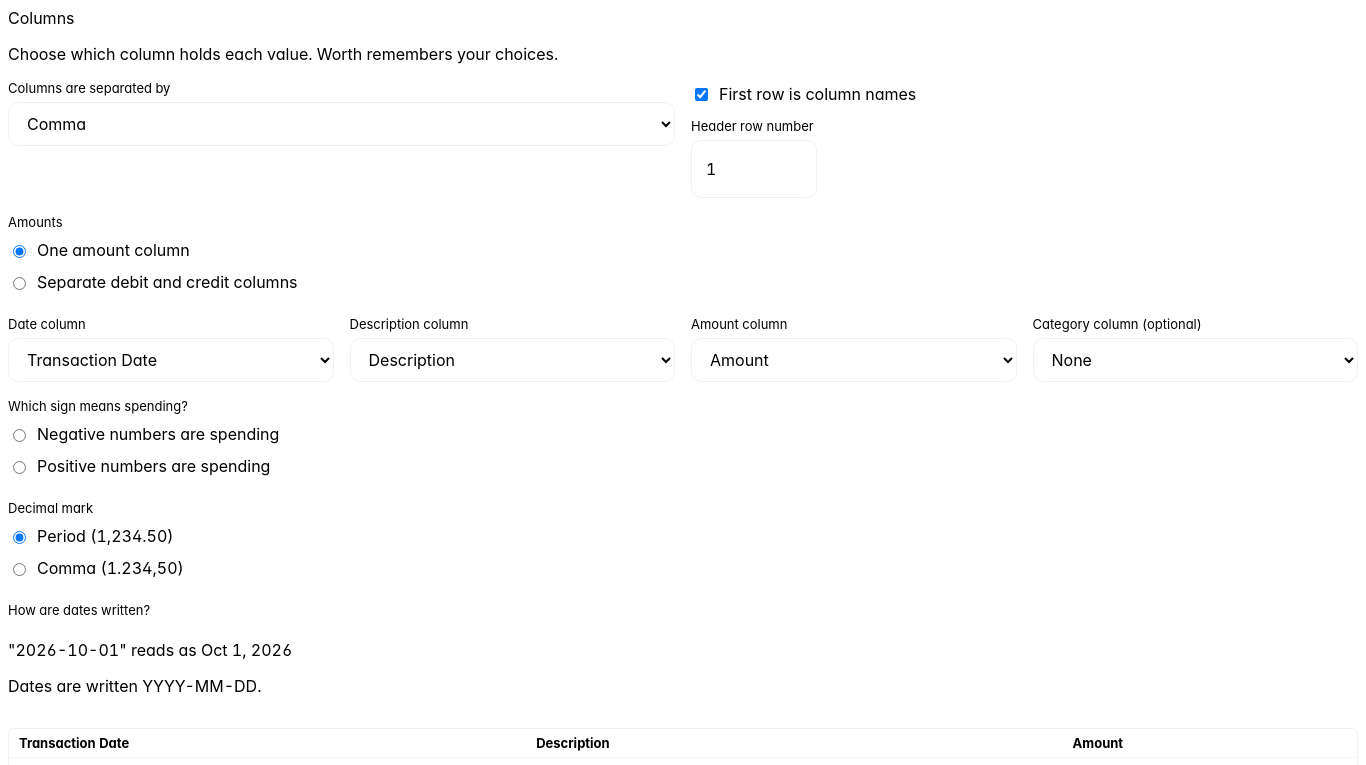
ColumnsStep › names the column and links the error to the date select when no dates can be read
Step 1. Select "Description" in the dropdown labelled "Date column" → (171, 360), box [8,338,334,382]
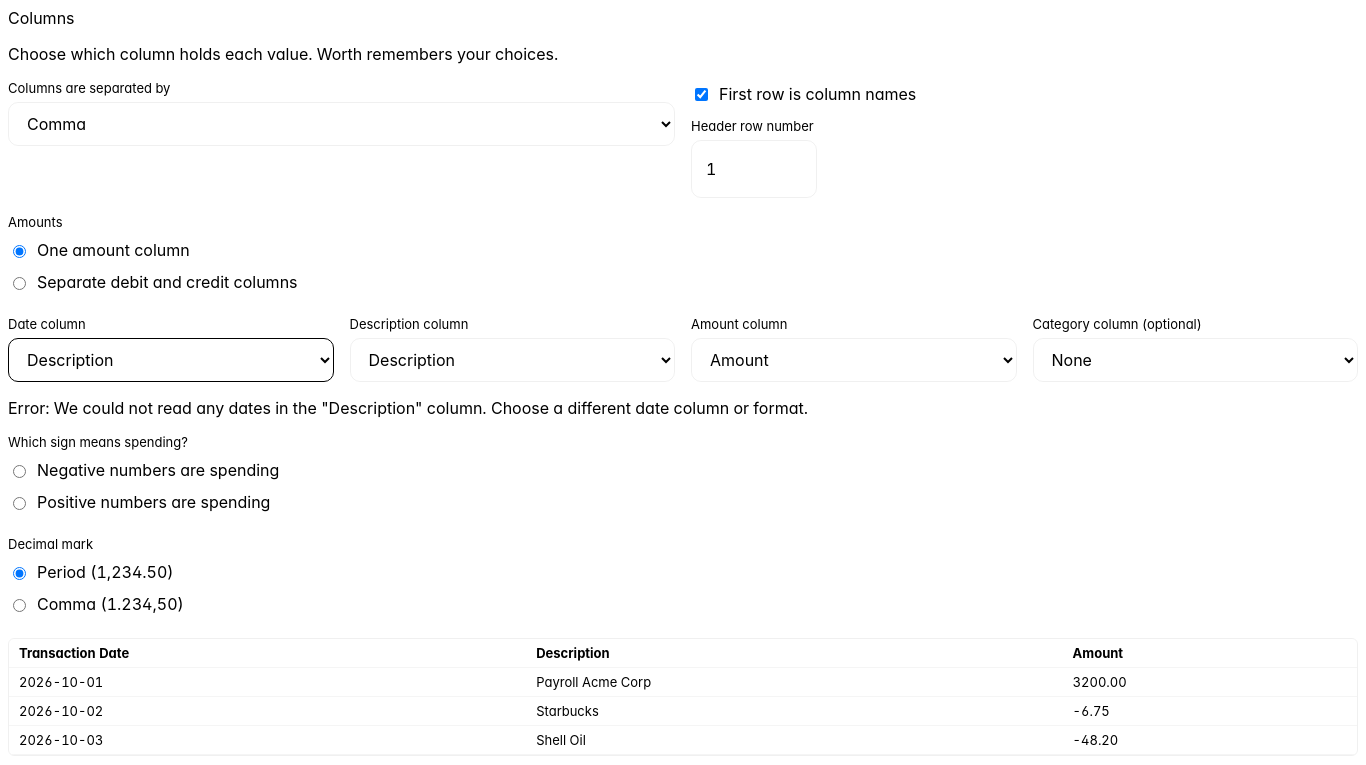
Now the message shows "We could not read any dates in the \"Description\" column.", box [8,398,808,418]
